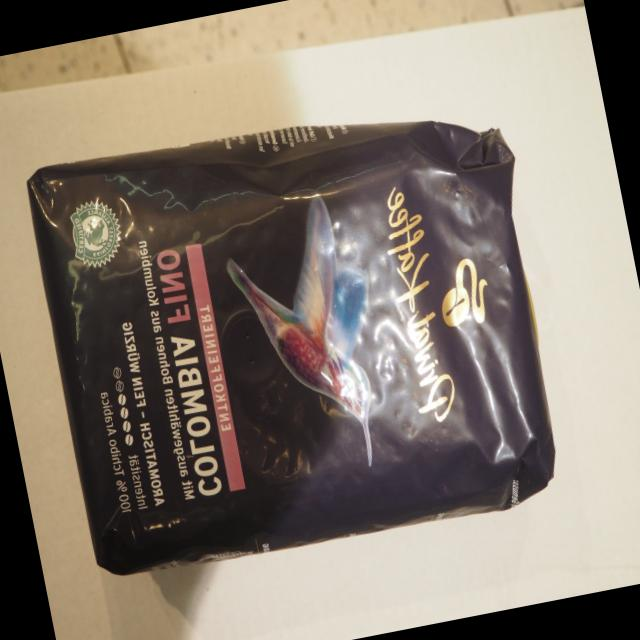C Fino Bohne: (16, 72, 588, 596)
